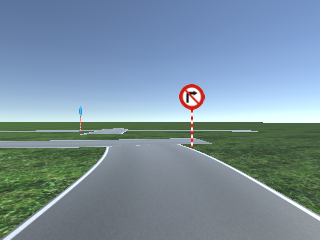-5: (1, 196, 320, 239)
NoRight: (179, 84, 205, 110)
